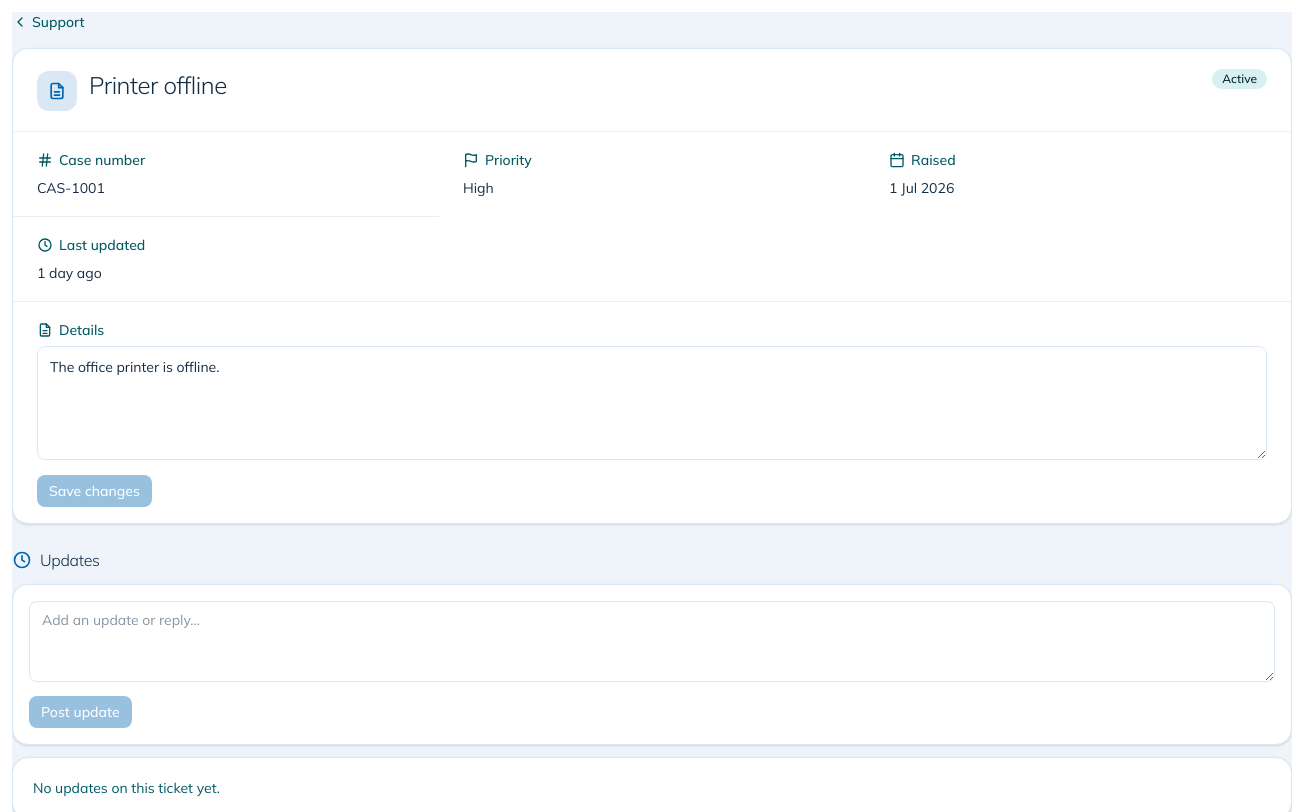
Test: CaseDetailPage › shows a post error message when the note create fails
Expected: the heading "Printer offline" is shown, [89,69,227,101]
Type "hello" into the text box with placeholder "Add an update or reply…" at (652, 642), box [29,601,1275,682]
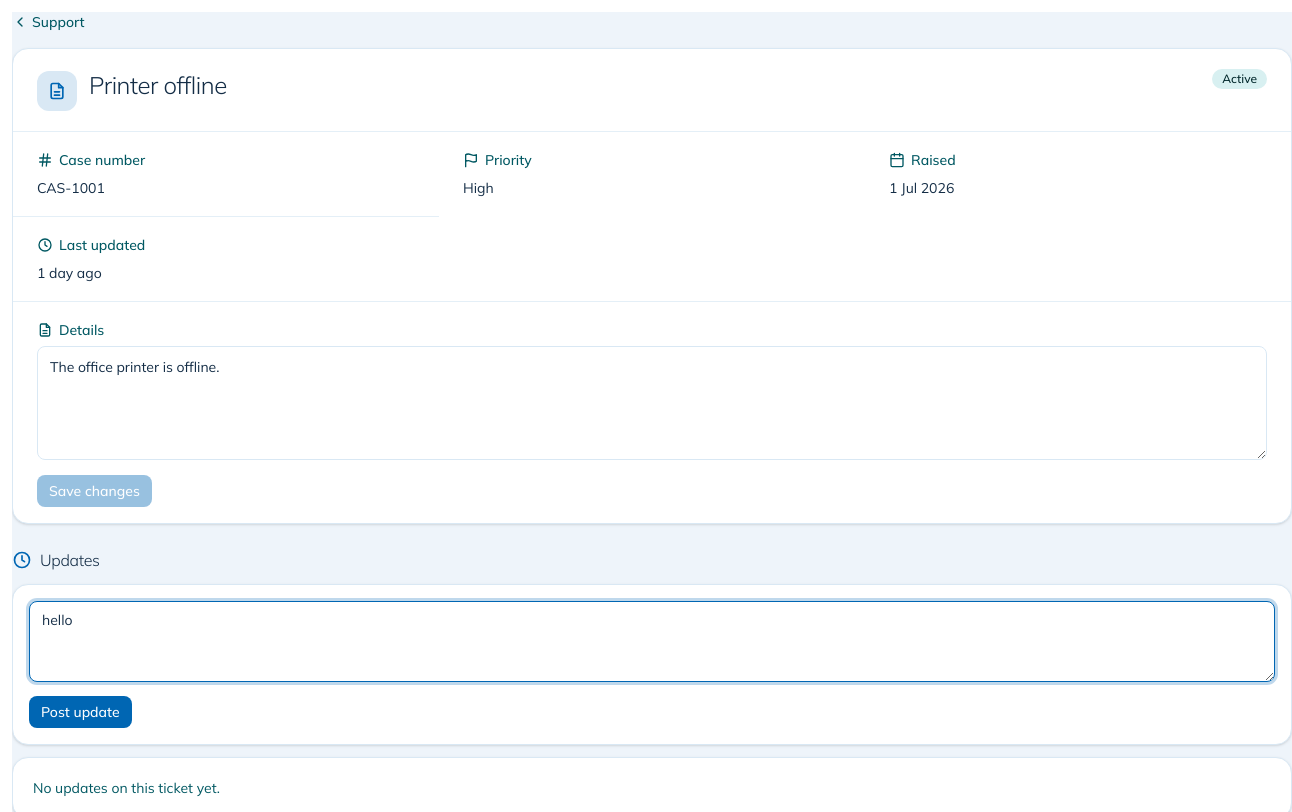
Click the button "Post update" at (80, 712), box [29,696,132,728]
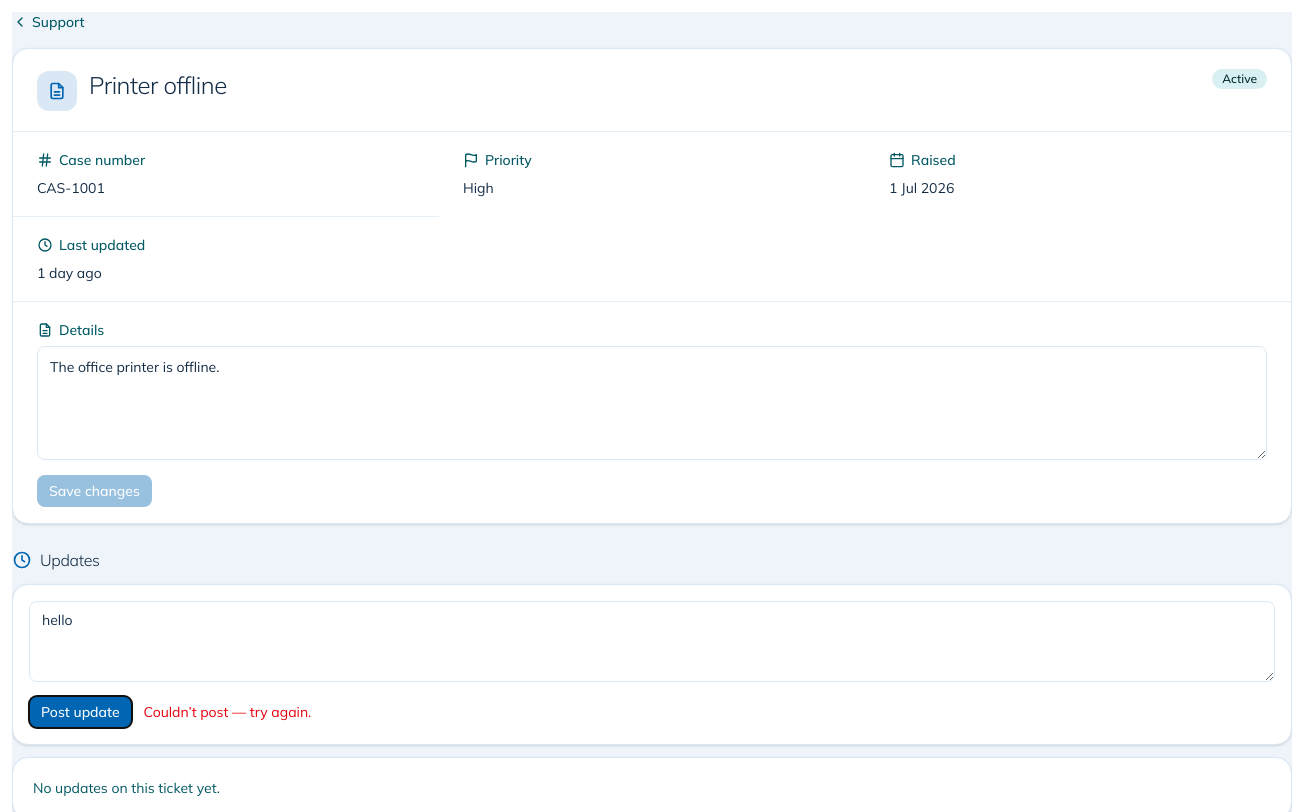
Expected: the text "Couldn’t post — try again." is shown, [144,702,311,722]
